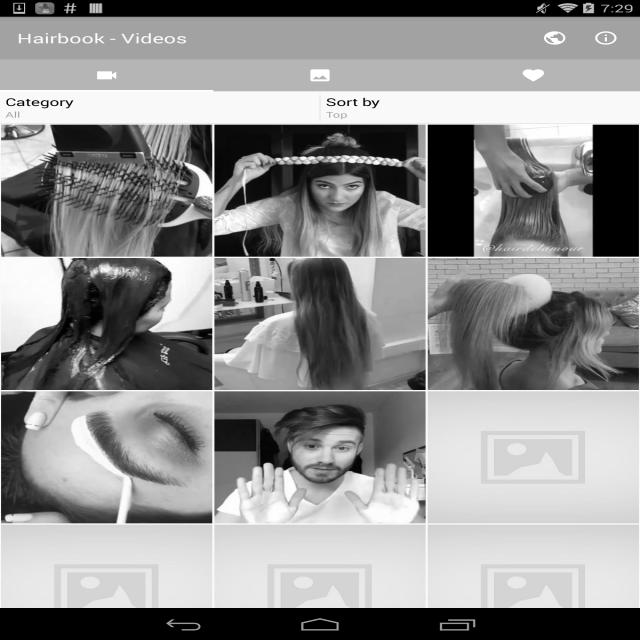ImageView: (426, 123, 640, 257), (213, 257, 427, 391), (426, 390, 640, 524), (0, 123, 213, 257), (0, 390, 213, 524), (213, 124, 427, 257), (426, 257, 640, 390), (213, 391, 427, 524), (0, 257, 213, 390), (213, 524, 427, 640), (426, 524, 640, 640), (0, 524, 213, 640), (307, 68, 333, 84), (94, 68, 119, 84), (521, 68, 546, 84)
TextView: (17, 29, 187, 47), (580, 22, 632, 54), (529, 22, 580, 54), (5, 95, 74, 109), (326, 95, 380, 109), (326, 109, 348, 120), (6, 109, 20, 120)
